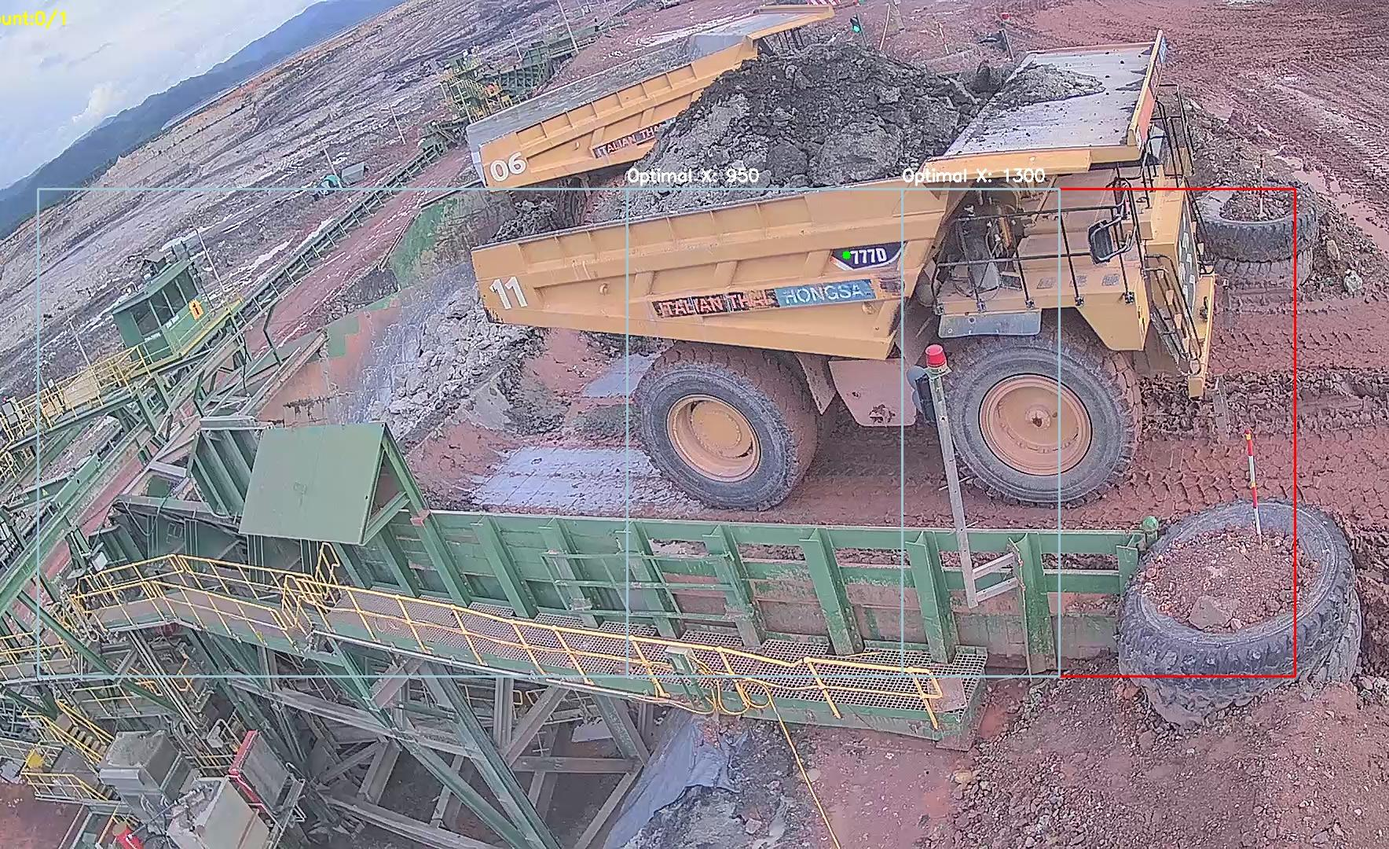company: (640, 272, 915, 322)
full_load: (623, 53, 991, 216)
mining_truck: (456, 29, 1250, 511)
tail_number: (485, 265, 536, 327)
truck_size: (820, 236, 905, 274)
